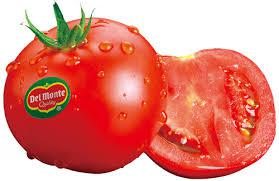tomato: (4, 16, 156, 171)
